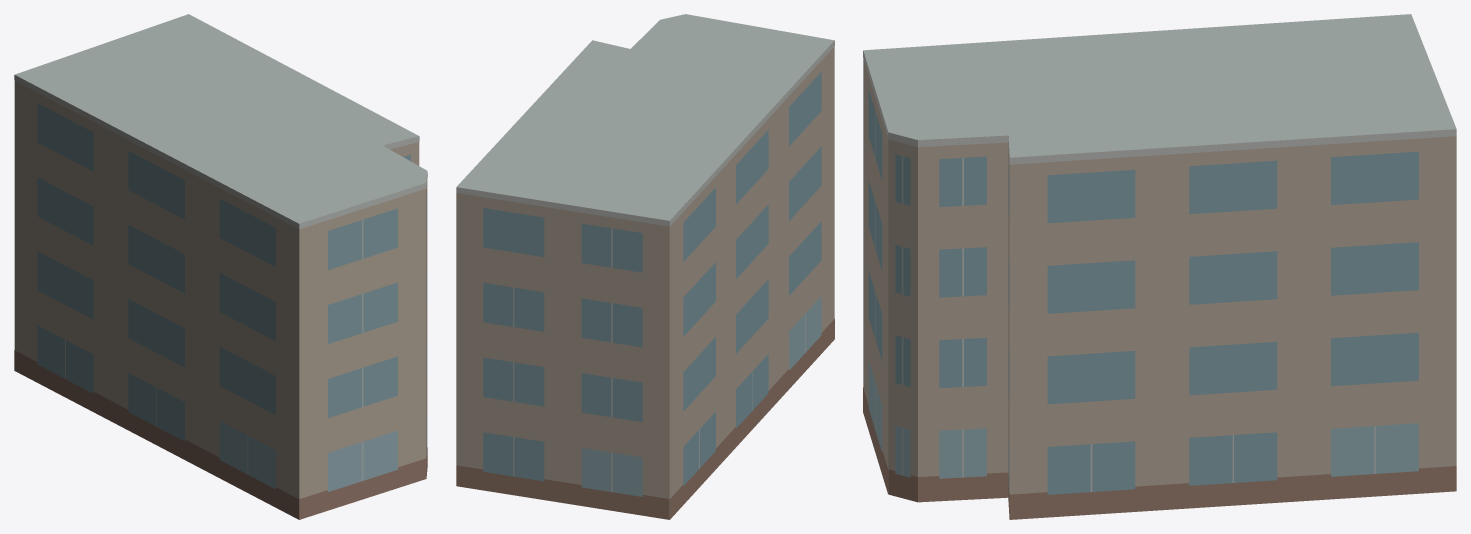
File: survey-upis-32993497.glb
3 views of the same model, side by side, from view 1: azimuth 30°, elevation 25°; view 2: azimuth 150°, elevation 25°; view 3: azimuth 270°, elevation 25° (orthographic). The views are drawn at different scales.
Parts seen in each view (by area): view 1: survey-upis-32993497.tmp; view 2: survey-upis-32993497.tmp; view 3: survey-upis-32993497.tmp.
Part boxes in pixels (x1,y1,x2,y2): survey-upis-32993497.tmp: (14, 14, 427, 519); survey-upis-32993497.tmp: (456, 14, 834, 519); survey-upis-32993497.tmp: (863, 14, 1456, 519).
Size of the model in its own units: 10.78 by 12.65 by 18.8.
